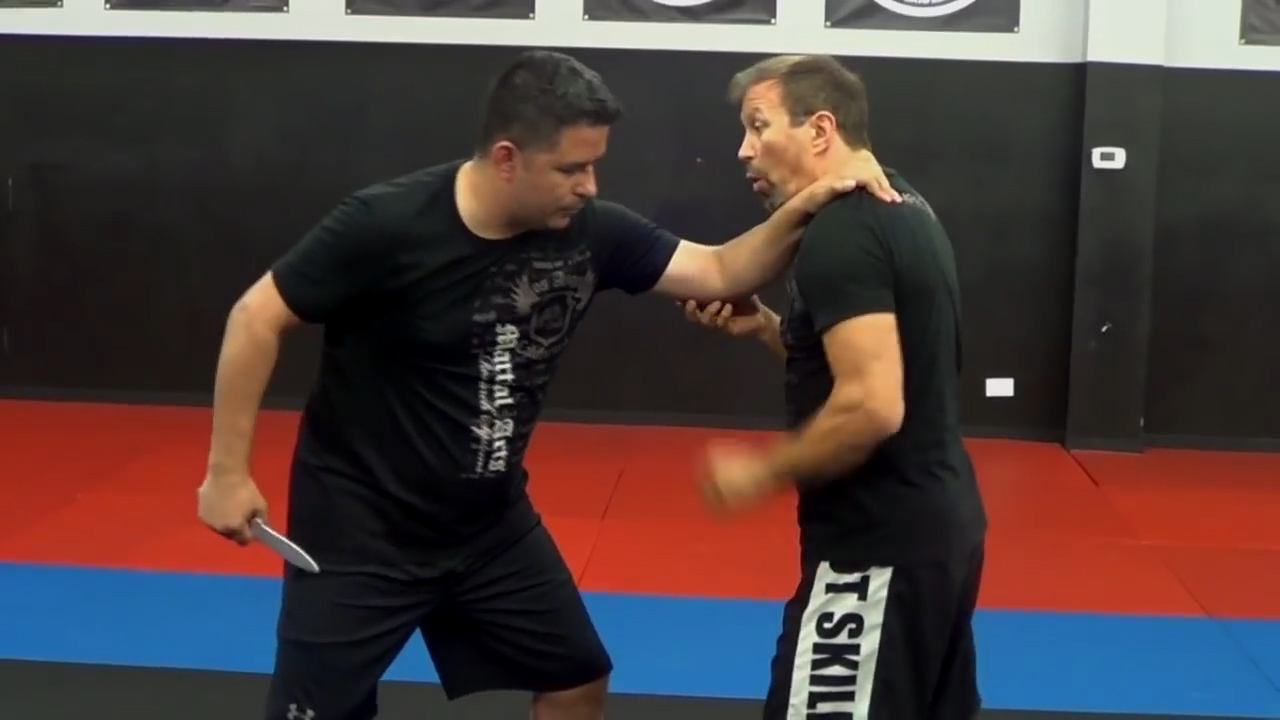knife: (194, 487, 322, 579)
